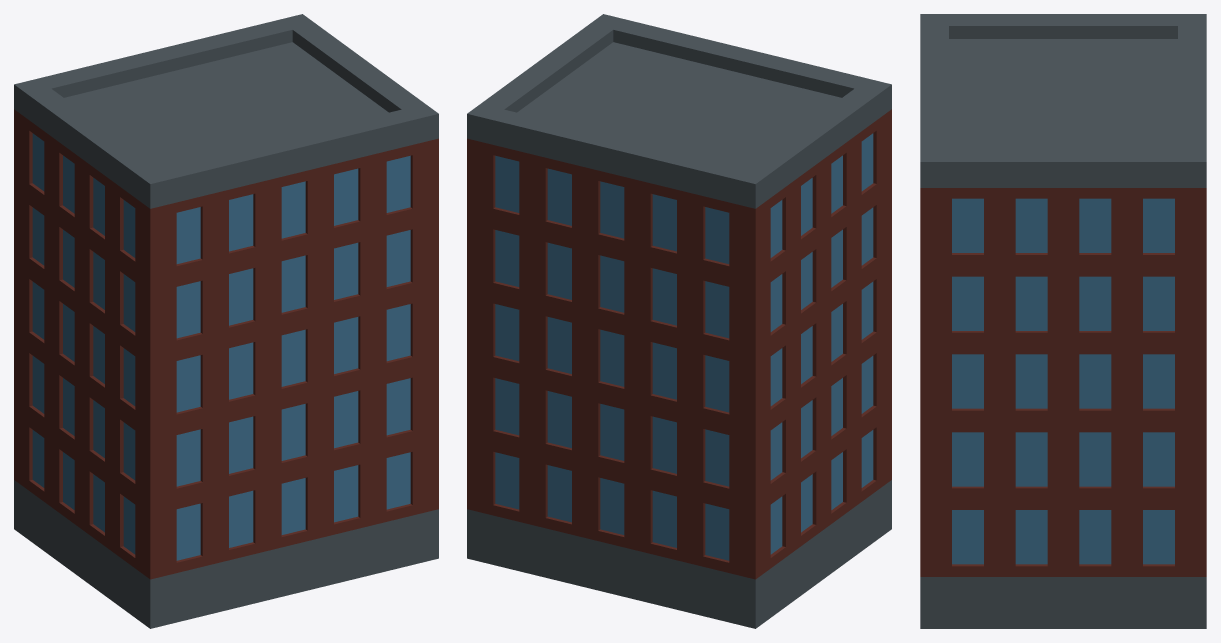
The model's file is Build_02.fbx.
3 views of the same model, side by side, from view 1: azimuth 30°, elevation 25°; view 2: azimuth 150°, elevation 25°; view 3: azimuth 270°, elevation 25° (orthographic). The views are drawn at different scales.
Parts seen in each view (by area): view 1: Build_02; view 2: Build_02; view 3: Build_02.
Part boxes in pixels (left/top/right/bottom): Build_02: left=14, top=14, right=438, bottom=628; Build_02: left=467, top=14, right=891, bottom=628; Build_02: left=920, top=14, right=1206, bottom=628.
Bounding box in the file's own units: 12.22 × 18 × 10.
